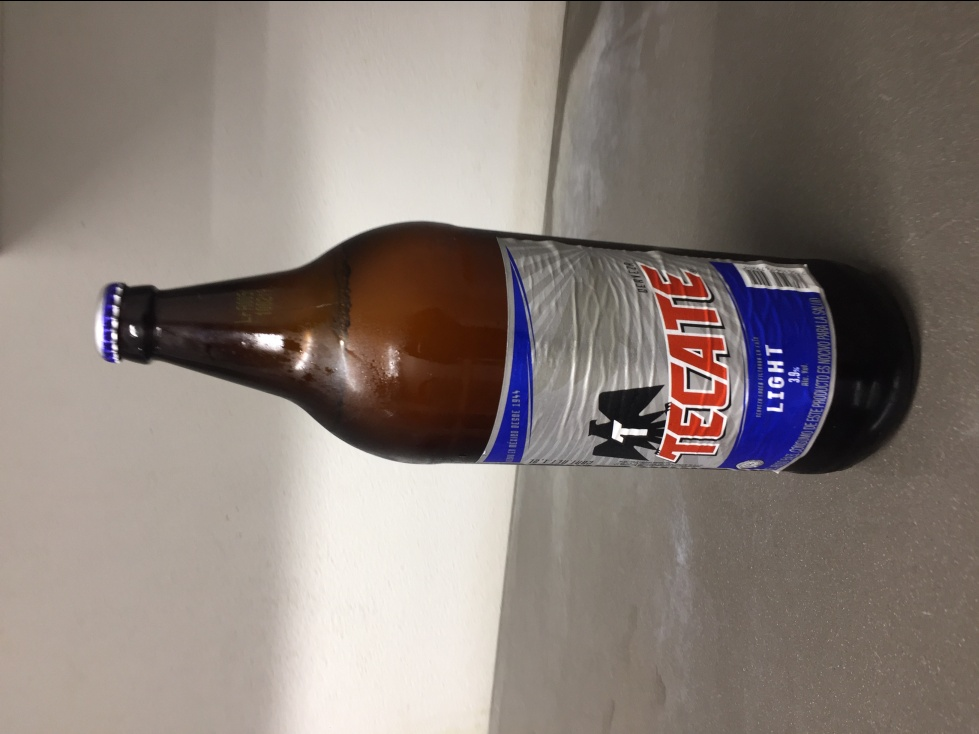tecateC: (103, 217, 915, 480)
